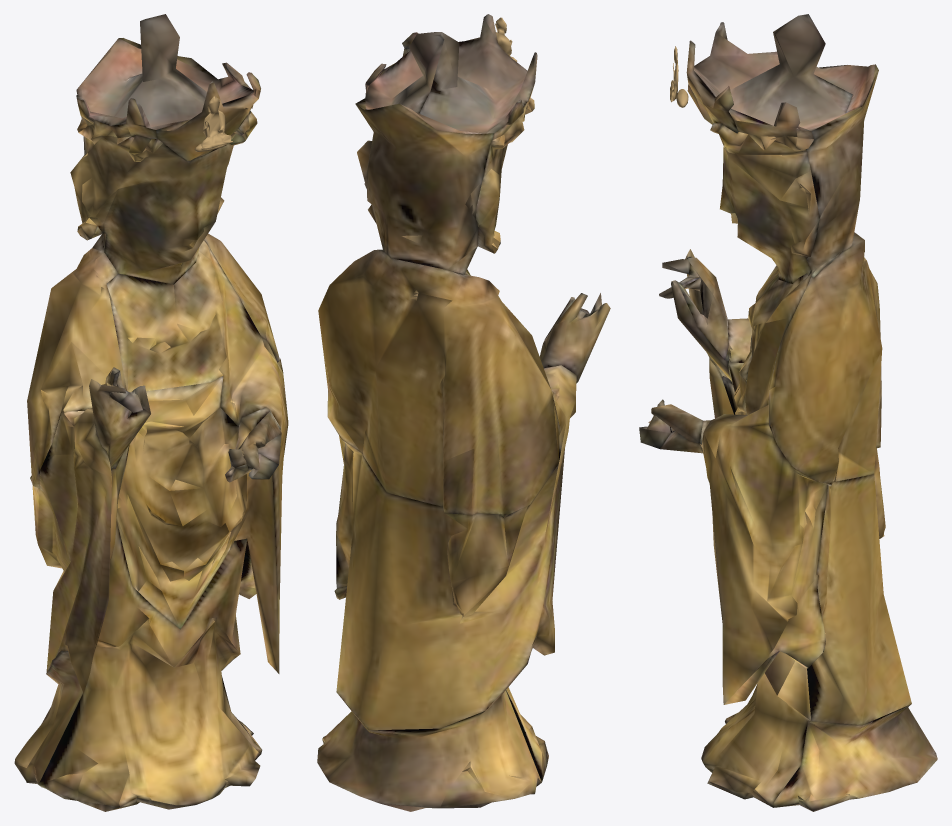
The model's file is village-avalokitesvara-preview.glb.
The picture shows the model from 3 angles, left to right: view 1: azimuth 30°, elevation 25°; view 2: azimuth 150°, elevation 25°; view 3: azimuth 270°, elevation 25°; orthographic projection. The views are drawn at different scales.
Parts seen in each view (by area): view 1: NMK_Goryeo_companion_interpreted_as_avalokitesvara, Amitabha_crown_relief_huabul; view 2: NMK_Goryeo_companion_interpreted_as_avalokitesvara; view 3: NMK_Goryeo_companion_interpreted_as_avalokitesvara.
Part boxes in pixels (x1,y1,x2,y2): NMK_Goryeo_companion_interpreted_as_avalokitesvara: (14,14,288,811); Amitabha_crown_relief_huabul: (201,96,233,149); NMK_Goryeo_companion_interpreted_as_avalokitesvara: (317,14,610,811); NMK_Goryeo_companion_interpreted_as_avalokitesvara: (639,14,937,811).
Size of the model in its own units: 0.3308 by 0.9956 by 0.3597.
2 materials, 1 textured.
